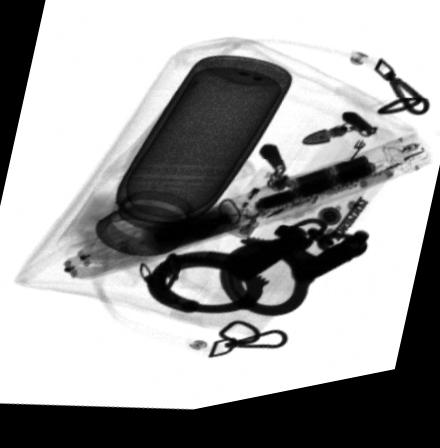Baton: (60, 149, 433, 284)
HandCuffs: (143, 228, 368, 326)
Lighter: (220, 177, 290, 247)
